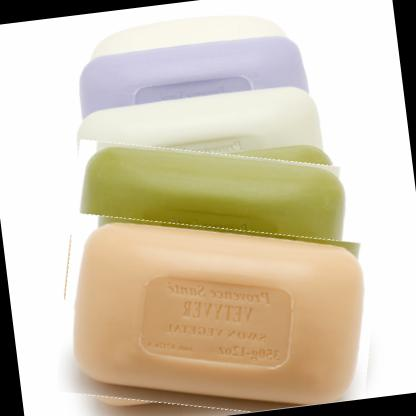soap: (45, 192, 391, 415), (53, 122, 366, 346)
